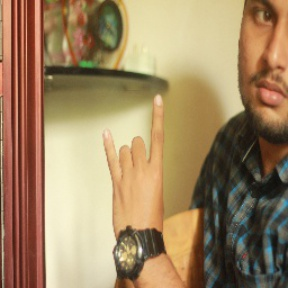V: (98, 91, 175, 251)
